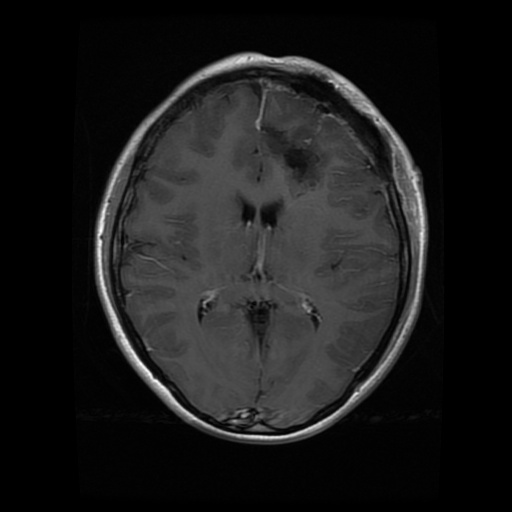glioma: (229, 120, 331, 197)
